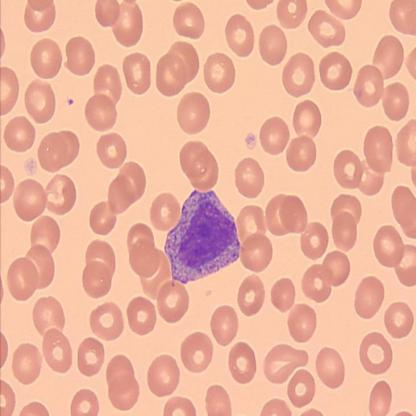Myelocyte: (166, 188, 241, 282)
